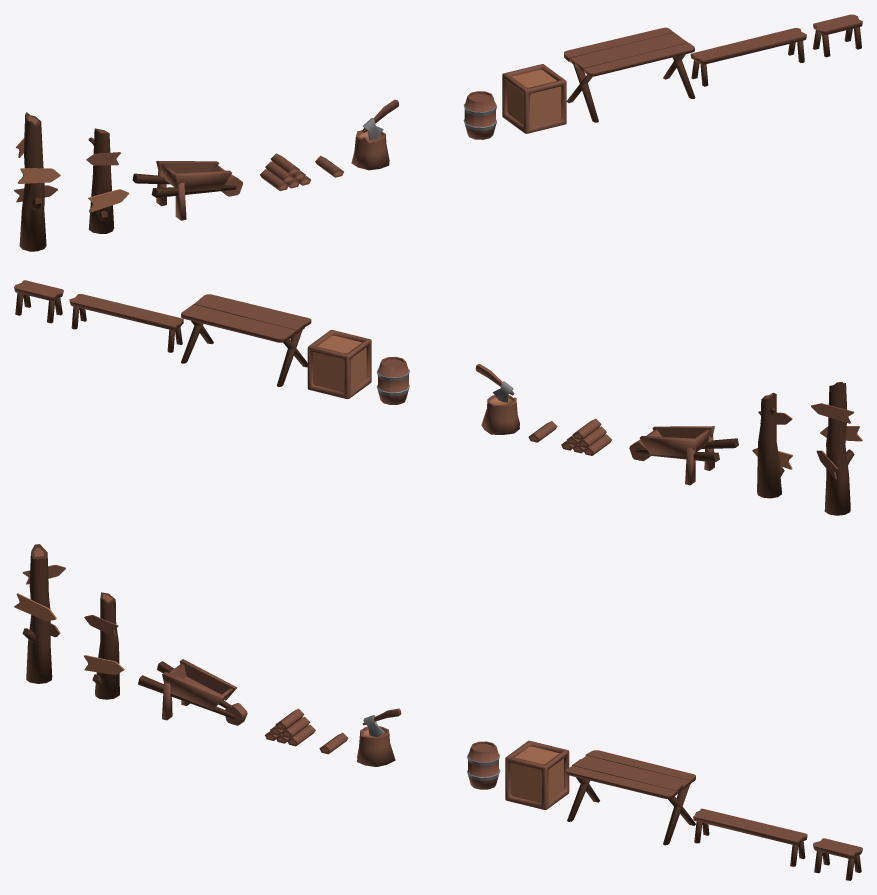
Rendered from Props_Houses_Smooth.fbx.
3 views of the same model, one above another, from view 1: azimuth 30°, elevation 25°; view 2: azimuth 150°, elevation 25°; view 3: azimuth 330°, elevation 25° (orthographic).
Visible parts, largest first — view 1: Table_Smooth, Box_Smooth, Pointer_Smooth_02, Truck_Smooth, Pointer_Smooth_01, Chai_Smooth_02, Axe_Stump_Smooth, Barrel_Smooth, Chai_Smooth_01, Firewood_Smooth_01; view 2: Table_Smooth, Box_Smooth, Pointer_Smooth_02, Truck_Smooth, Pointer_Smooth_01, Chai_Smooth_02, Axe_Stump_Smooth, Barrel_Smooth, Chai_Smooth_01, Firewood_Smooth_01; view 3: Table_Smooth, Box_Smooth, Pointer_Smooth_02, Truck_Smooth, Pointer_Smooth_01, Chai_Smooth_02, Axe_Stump_Smooth, Barrel_Smooth, Chai_Smooth_01, Firewood_Smooth_01.
Boxes of the visible parts, x1,y1,x2,y2 form: Table_Smooth: [564, 27, 695, 122]; Box_Smooth: [502, 64, 566, 133]; Pointer_Smooth_02: [14, 112, 60, 251]; Truck_Smooth: [132, 161, 242, 220]; Pointer_Smooth_01: [86, 128, 129, 233]; Chai_Smooth_02: [690, 28, 806, 86]; Axe_Stump_Smooth: [351, 99, 398, 170]; Barrel_Smooth: [463, 91, 496, 139]; Chai_Smooth_01: [812, 14, 862, 57]; Firewood_Smooth_01: [260, 153, 310, 190]; Table_Smooth: [181, 294, 311, 386]; Box_Smooth: [307, 329, 371, 399]; Pointer_Smooth_02: [811, 382, 862, 515]; Truck_Smooth: [629, 426, 738, 485]; Pointer_Smooth_01: [752, 392, 792, 498]; Chai_Smooth_02: [69, 294, 183, 352]; Axe_Stump_Smooth: [475, 364, 519, 434]; Barrel_Smooth: [377, 356, 409, 404]; Chai_Smooth_01: [14, 280, 63, 323]; Firewood_Smooth_01: [561, 418, 611, 455]; Table_Smooth: [565, 750, 695, 845]; Box_Smooth: [505, 740, 569, 809]; Pointer_Smooth_02: [14, 544, 65, 683]; Truck_Smooth: [138, 659, 247, 725]; Pointer_Smooth_01: [84, 592, 124, 699]; Chai_Smooth_02: [693, 808, 807, 866]; Axe_Stump_Smooth: [357, 708, 401, 766]; Barrel_Smooth: [467, 741, 500, 789]; Chai_Smooth_01: [813, 838, 862, 880]; Firewood_Smooth_01: [265, 708, 315, 746].
Size of the model in its own units: 2043 by 304 by 131.
